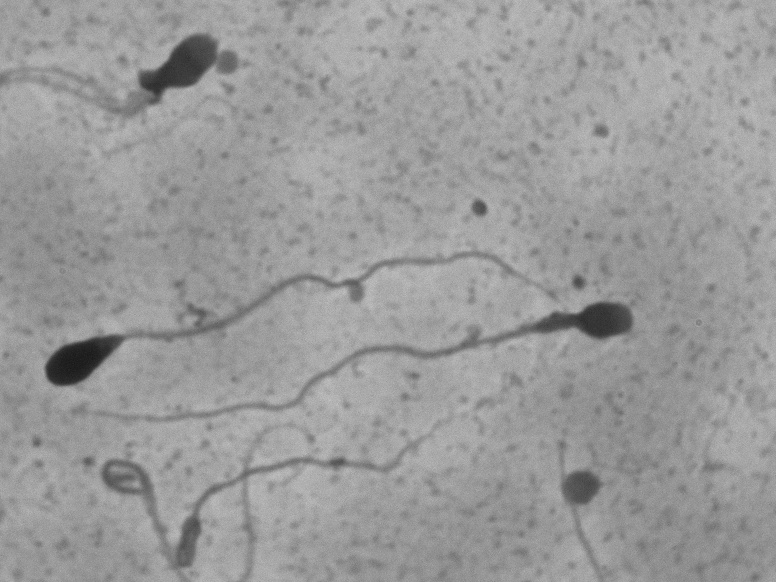Abnormal: (17, 247, 284, 404), (381, 289, 661, 422), (32, 12, 255, 154)
